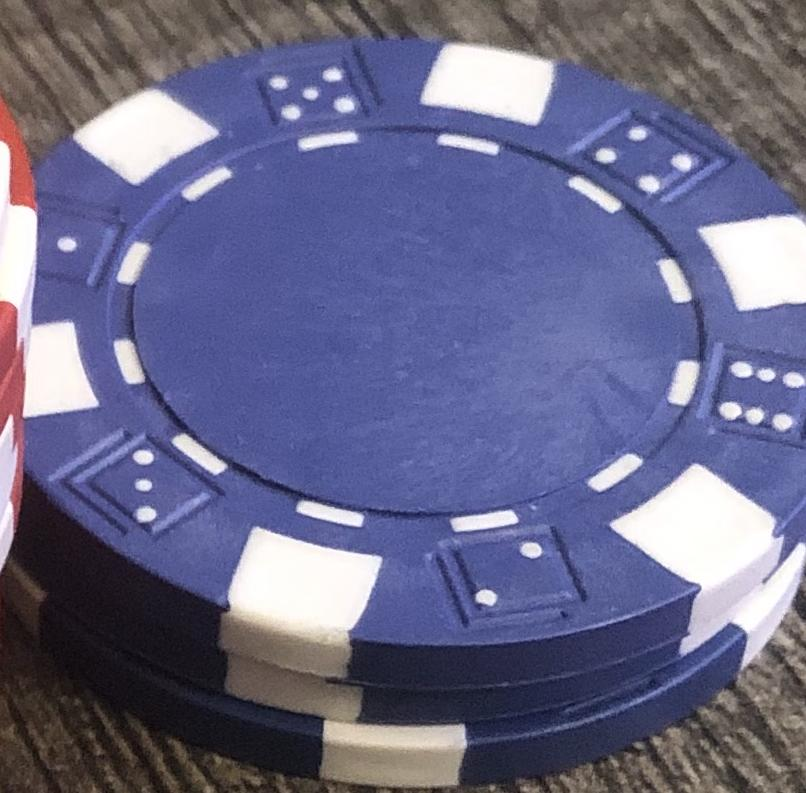Chip: (1, 1, 806, 793)
